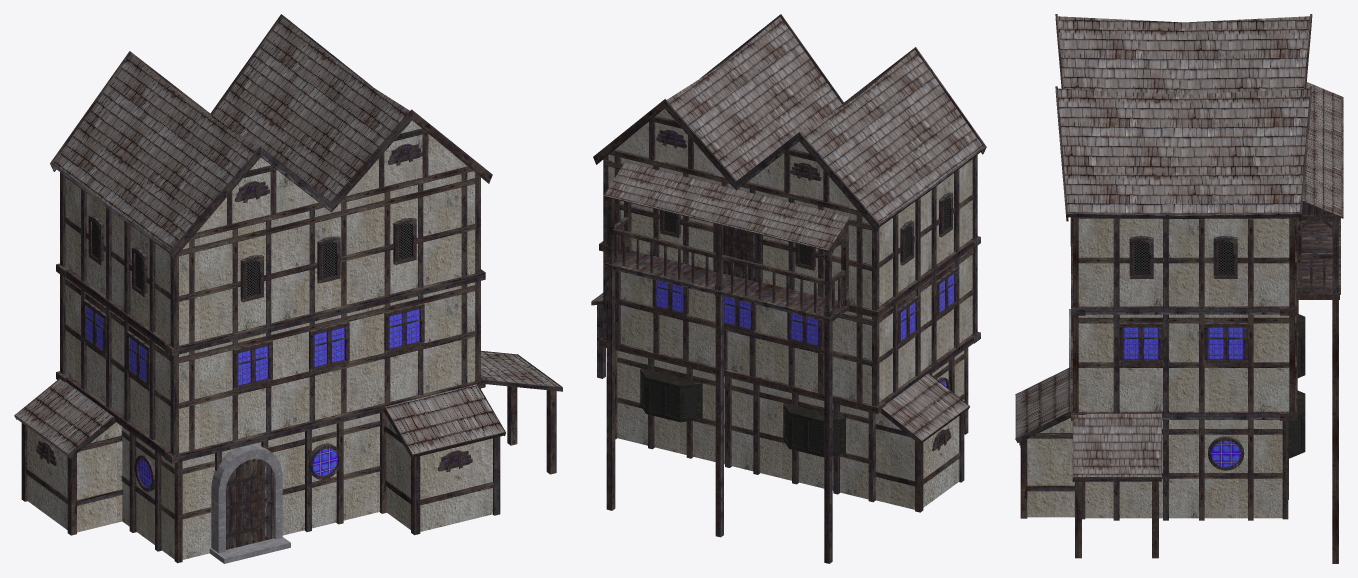
File: house03.dae
3 renders of one model, left to right at view 1: azimuth 30°, elevation 25°; view 2: azimuth 150°, elevation 25°; view 3: azimuth 270°, elevation 25°, orthographic. The views are drawn at different scales.
Visible parts, largest first — view 1: House2_Roof, House2_Level3, House2_Level2, House2_Level3_Beams, House2_Level1, House2_Level2_Beams, BuildingExtensions4_001, House2_Level1_Beams, BuildingExtensions4_002, House2_Roof_Frame, BuildingExtensions4Roof_001, House2_Level2_SeperatorBeams (+18 smaller); view 2: House2_Roof, House2_Level2, House2_Level3, House2_Level1, House2_Level3_Beams, Balcony1Roof, House2_Level2_Beams, Balcony1Stilts, Balcony1, House2_Level1_Beams, BuildingExtensions4_002, House2_Roof_Frame (+19 smaller); view 3: House2_Roof, House2_Level3, House2_Level2, House2_Level1, House2_Level2_Beams, Roof2Outer, House2_Level3_Beams, Balcony1Roof, House2_Level1_Beams, BuildingExtensions4_001, Balcony1, House2_Roof_Frame (+19 smaller).
Part boxes in pixels (<box>): House2_Roof: <box>53,17,409,248</box>; House2_Level3: <box>65,120,475,345</box>; House2_Level2: <box>65,280,475,453</box>; House2_Level3_Beams: <box>60,128,480,347</box>; House2_Level1: <box>122,413,379,559</box>; House2_Level2_Beams: <box>60,274,480,455</box>; BuildingExtensions4_001: <box>386,416,492,531</box>; House2_Level1_Beams: <box>121,412,386,563</box>; BuildingExtensions4_002: <box>27,422,122,532</box>; House2_Roof_Frame: <box>50,14,492,259</box>; BuildingExtensions4Roof_001: <box>385,384,504,453</box>; House2_Level2_SeperatorBeams: <box>56,263,485,355</box>; House2_Roof: <box>666,17,983,222</box>; House2_Level2: <box>620,250,972,404</box>; House2_Level3: <box>608,108,972,308</box>; House2_Level1: <box>617,350,964,499</box>; House2_Level3_Beams: <box>603,116,977,310</box>; Balcony1Roof: <box>604,161,849,250</box>; House2_Level2_Beams: <box>603,246,977,406</box>; Balcony1Stilts: <box>606,270,832,563</box>; Balcony1: <box>604,196,850,319</box>; House2_Level1_Beams: <box>615,347,968,502</box>; BuildingExtensions4_002: <box>876,412,959,509</box>; House2_Roof_Frame: <box>593,14,986,231</box>; House2_Roof: <box>1057,16,1309,213</box>; House2_Level3: <box>1078,218,1289,306</box>; House2_Level2: <box>1078,314,1289,411</box>; House2_Level1: <box>1085,420,1282,518</box>; House2_Level2_Beams: <box>1073,314,1296,412</box>; Roof2Outer: <box>1073,413,1161,476</box>; House2_Level3_Beams: <box>1073,198,1296,307</box>; Balcony1Roof: <box>1303,82,1343,217</box>; House2_Level1_Beams: <box>1082,420,1288,520</box>; BuildingExtensions4_001: <box>1027,417,1074,517</box>; Balcony1: <box>1296,201,1343,294</box>; House2_Roof_Frame: <box>1055,14,1312,221</box>.
Size of the model in its own units: 11.25 by 7.48 by 11.39.
26 materials, 26 textured.
